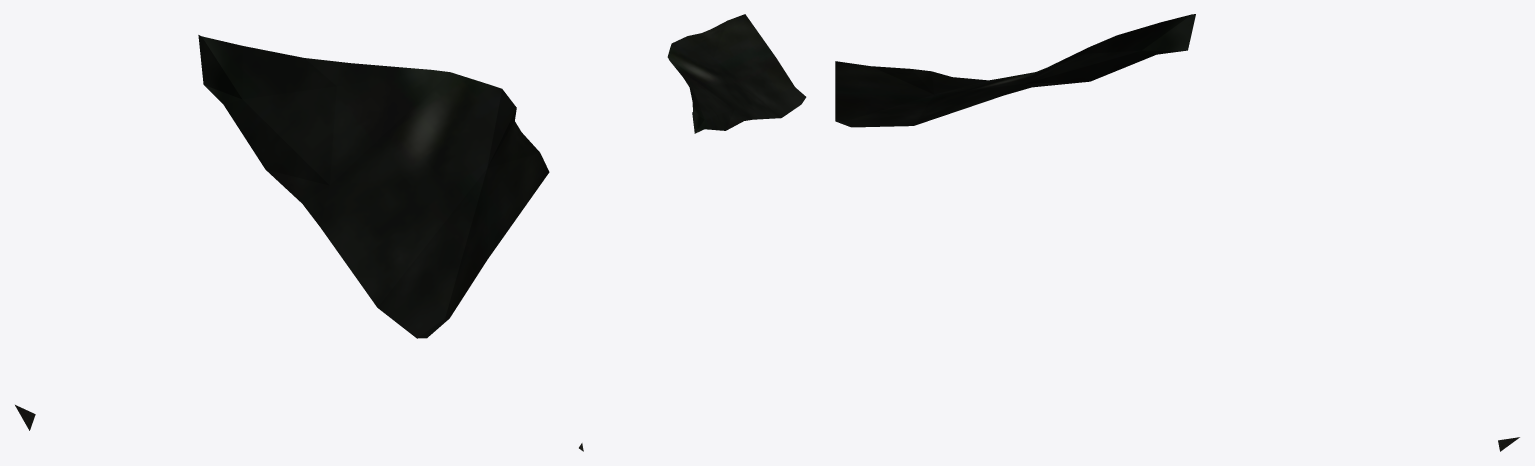
3 views of the same model, side by side, from view 1: azimuth 30°, elevation 25°; view 2: azimuth 150°, elevation 25°; view 3: azimuth 270°, elevation 25° (orthographic). The views are drawn at different scales.
Bounding box in the file's own units: 0.1891 × 0.5696 × 0.8251.
Materials: 1 (1 with a texture image).
